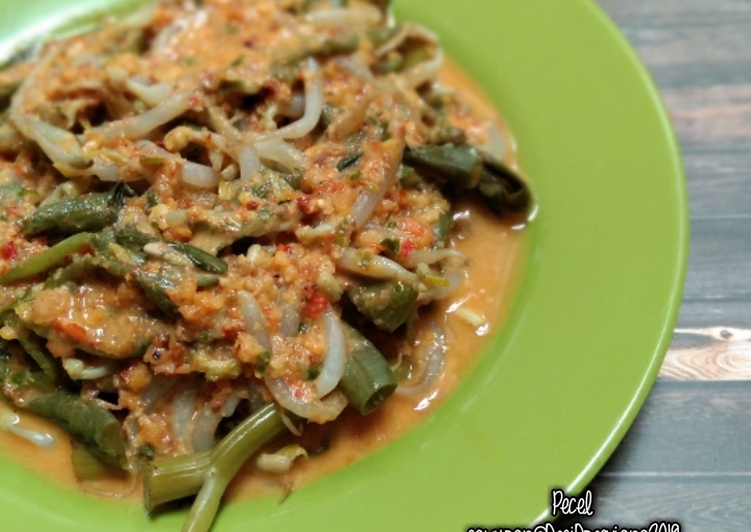pecel: (1, 13, 577, 480)
